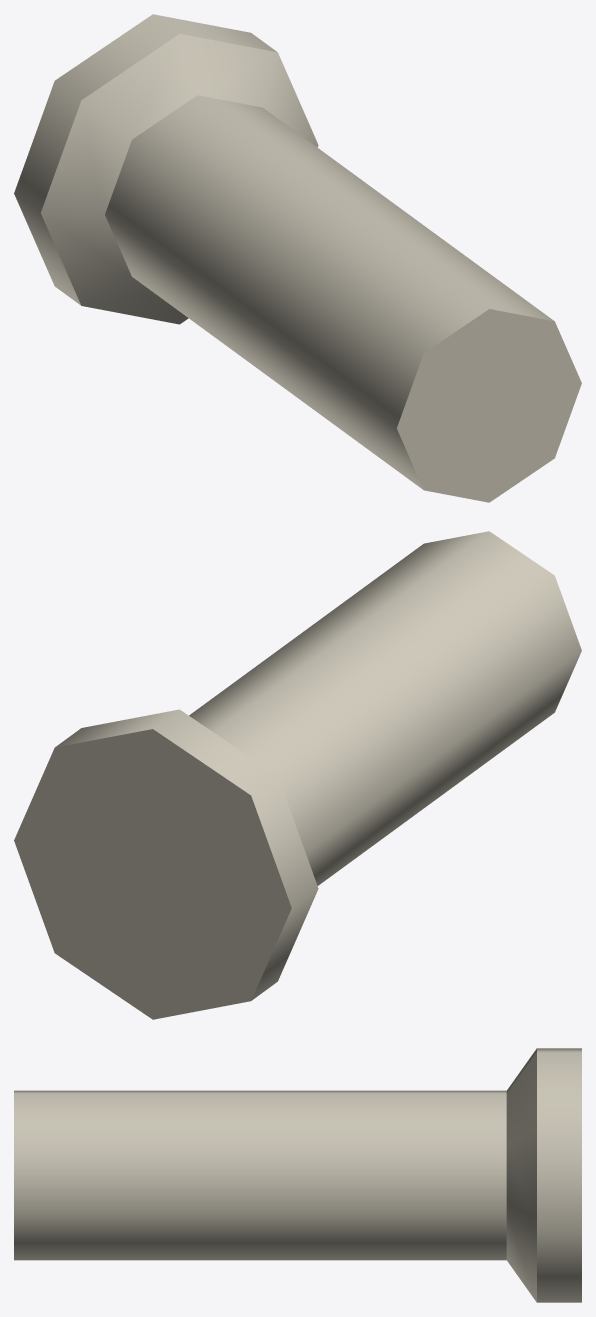
File: u65m_busbar.obj
The picture shows the model from 3 angles, top to bottom: view 1: azimuth 30°, elevation 25°; view 2: azimuth 150°, elevation 25°; view 3: azimuth 270°, elevation 25°; orthographic projection. The views are drawn at different scales.
Visible parts, largest first — view 1: u65m_busbar; view 2: u65m_busbar; view 3: u65m_busbar.
Boxes of the visible parts, bbox=[...] form: u65m_busbar: bbox=[14, 14, 581, 502]; u65m_busbar: bbox=[14, 531, 581, 1019]; u65m_busbar: bbox=[14, 1048, 581, 1302].
Size of the model in its own units: 0.72 by 0.72 by 1.51.
